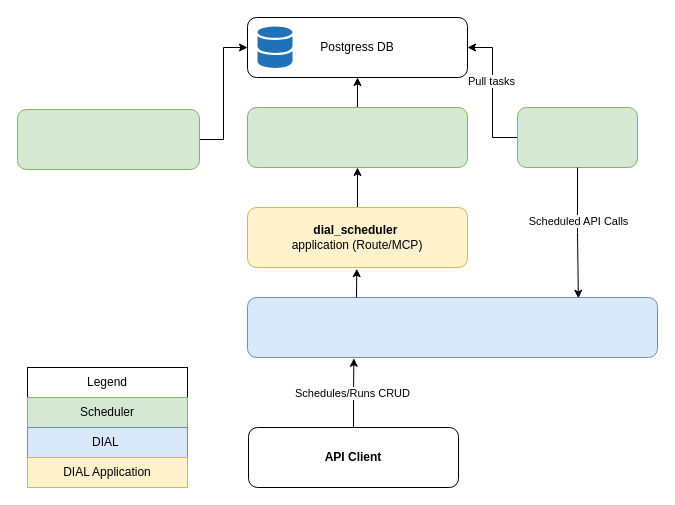
Image size: 675x505. Some labels were removed from this diagram. The shapes that lost their labels are listed below. From the top down, each one's centre as x and y in pixels, then its label:
At pixel 108 139: "Scheduler Migrations one time job".
At pixel 357 137: "Scheduler API REST API".
At pixel 577 137: "Scheduler Worker Background worker".
At pixel 452 327: "DIAL Core".
